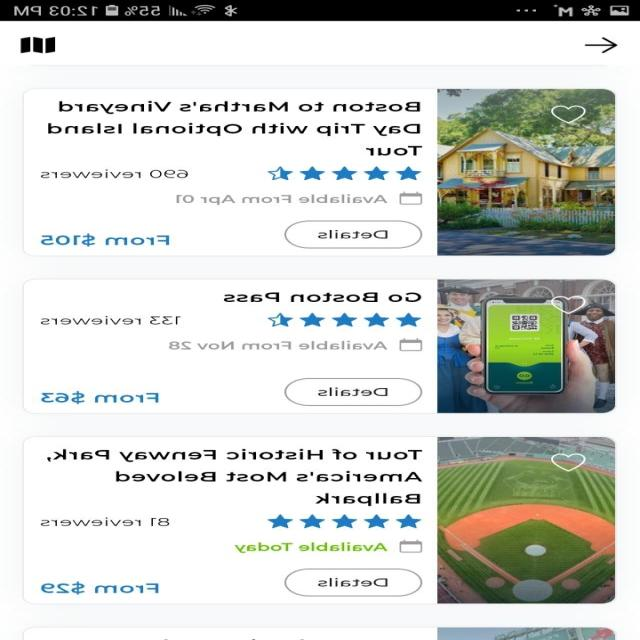Icon: (268, 312, 422, 326), (268, 166, 422, 180), (268, 514, 422, 528), (550, 453, 587, 472), (550, 105, 587, 124), (550, 296, 587, 314), (21, 36, 57, 54), (584, 37, 618, 54), (399, 191, 423, 205), (399, 337, 423, 351), (399, 538, 423, 552)
Image: (437, 436, 615, 603), (437, 89, 615, 256), (437, 279, 615, 413), (437, 627, 615, 640)
Text: (47, 448, 423, 506), (48, 100, 423, 156), (175, 193, 388, 206), (224, 291, 422, 302), (168, 340, 388, 349), (41, 233, 171, 247), (42, 580, 160, 594), (234, 542, 388, 552), (42, 391, 160, 404), (40, 169, 190, 178), (41, 517, 171, 526), (41, 316, 182, 324)
TextButton: (284, 377, 424, 406), (284, 568, 424, 597), (284, 220, 424, 248)
